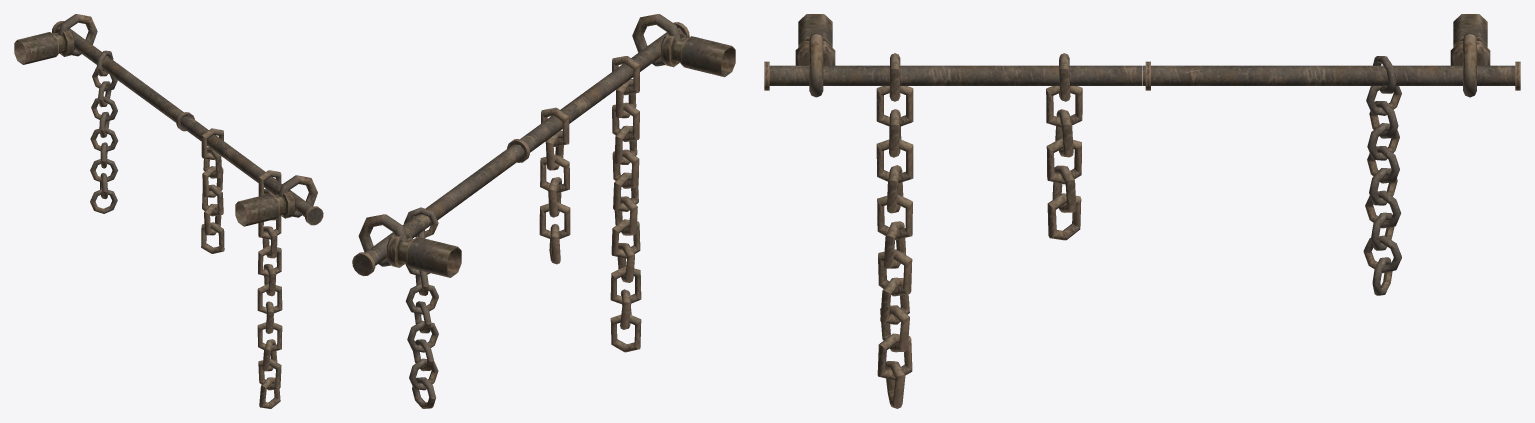
The picture shows the model from 3 angles, left to right: view 1: azimuth 30°, elevation 25°; view 2: azimuth 150°, elevation 25°; view 3: azimuth 270°, elevation 25°; orthographic projection. The views are drawn at different scales.
Parts seen in each view (by area): view 1: SM_DR_TortureWall_03_LOD0; view 2: SM_DR_TortureWall_03_LOD0; view 3: SM_DR_TortureWall_03_LOD0.
Boxes of the visible parts, left/top/right/bottom form: SM_DR_TortureWall_03_LOD0: left=14, top=14, right=323, bottom=408; SM_DR_TortureWall_03_LOD0: left=352, top=14, right=735, bottom=408; SM_DR_TortureWall_03_LOD0: left=764, top=14, right=1520, bottom=408.
Bounding box in the file's own units: 0.7233 × 2.28 × 4.16.
1 material, 1 textured.
